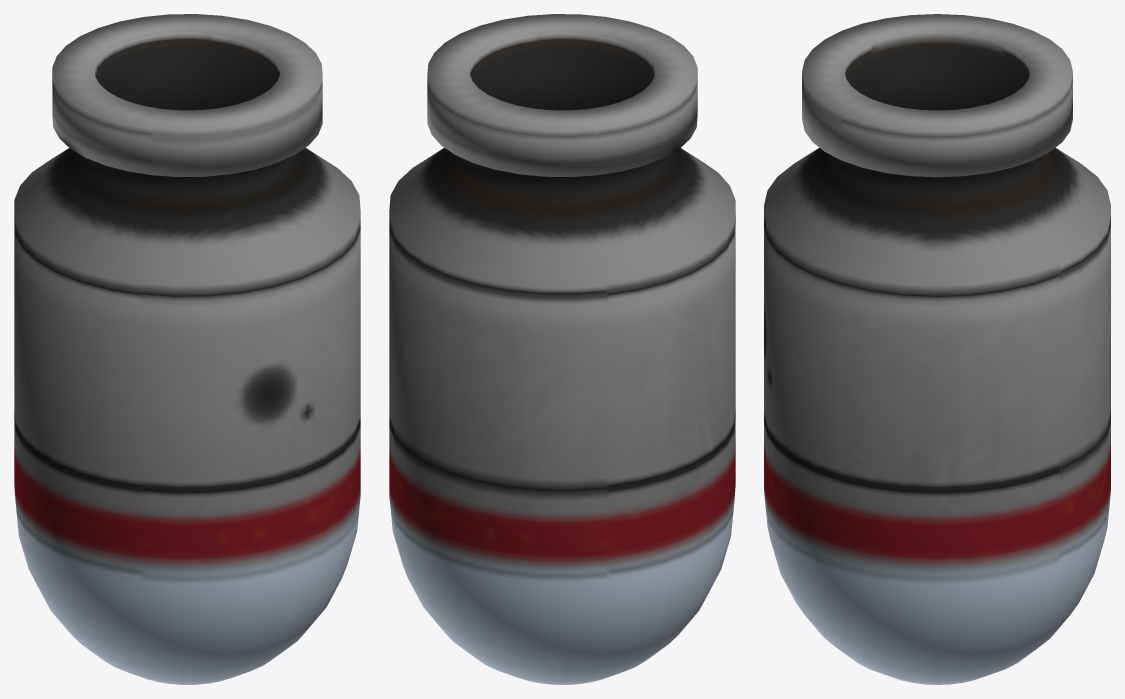
The model's file is Bomb.fbx.
The picture shows the model from 3 angles, left to right: view 1: azimuth 30°, elevation 25°; view 2: azimuth 150°, elevation 25°; view 3: azimuth 270°, elevation 25°; orthographic projection.
Parts seen in each view (by area): view 1: Bomb; view 2: Bomb; view 3: Bomb.
Part boxes in pixels (x1,y1,x2,y2): Bomb: (14,14,360,684); Bomb: (389,14,735,684); Bomb: (764,14,1110,684).
Bounding box in the file's own units: 2.18 × 4.17 × 2.18.
